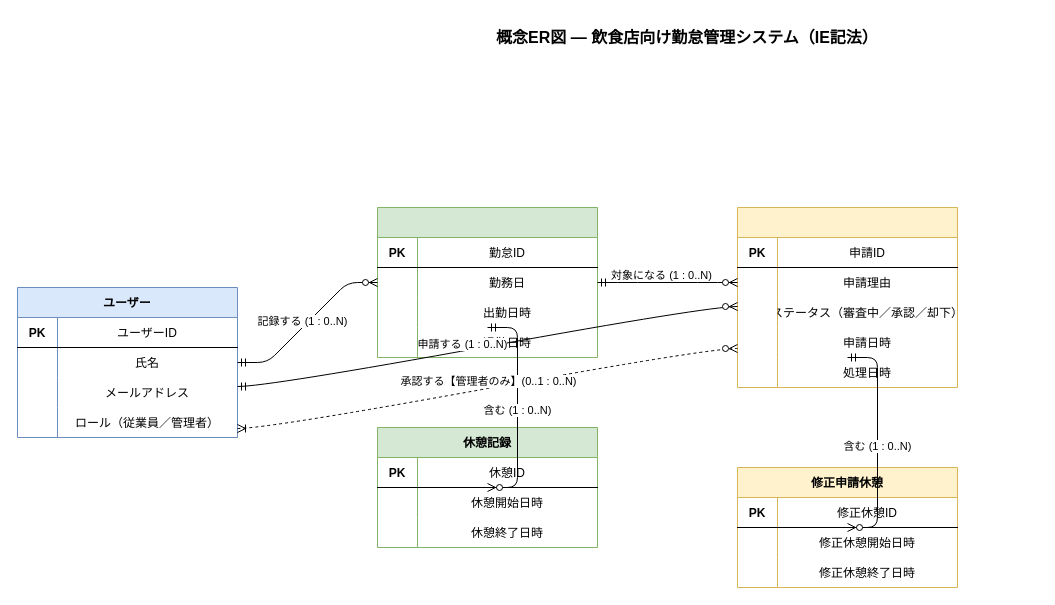
This 1055x605 diagram has some shape labels left out. Here are the shapes that lost their labels. From the top down, the box of each, then its label:
(376, 206, 598, 358): 勤怠記録
(736, 206, 958, 388): 修正申請
